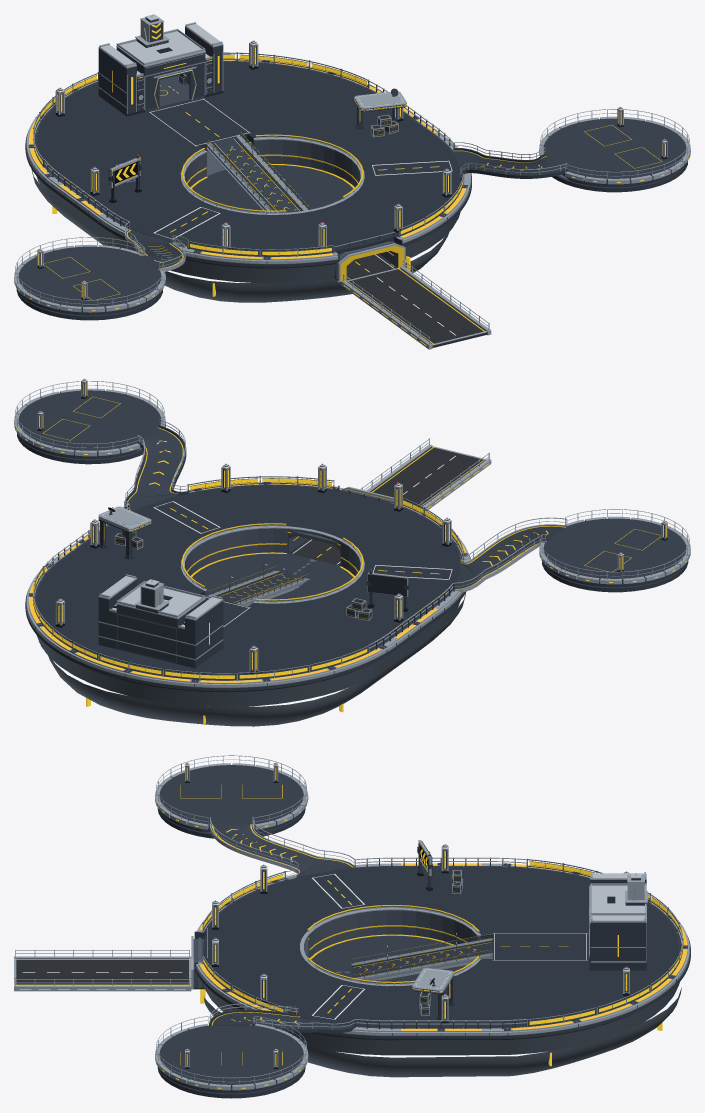
3 views of the same model, one above another, from view 1: azimuth 30°, elevation 25°; view 2: azimuth 150°, elevation 25°; view 3: azimuth 270°, elevation 25° (orthographic).
Visible parts, largest first — view 1: floating_base_deck, hq_building, floating_island_rock, trainingPlatform_2, trainingPlatform, basin, entranceBridge, rampBridge, bridge, dry_tunnel_module, bridge_2, commsCanopy (+6 smaller); view 2: floating_base_deck, floating_island_rock, basin, hq_building, trainingPlatform_2, trainingPlatform, entranceBridge, bridge, bridge_2, rampBridge, dry_tunnel_module, commsCanopy (+6 smaller); view 3: floating_base_deck, floating_island_rock, trainingPlatform, basin, trainingPlatform_2, entranceBridge, hq_building, rampBridge, bridge_2, bridge, commsCanopy, rockFoundation (+6 smaller).
Part boxes in pixels (x1,y1,x2,y2): floating_base_deck: [25, 58, 471, 267]; hq_building: [98, 14, 223, 116]; floating_island_rock: [31, 141, 460, 302]; trainingPlatform_2: [14, 237, 165, 315]; trainingPlatform: [539, 109, 690, 187]; basin: [180, 134, 364, 214]; entranceBridge: [341, 259, 491, 349]; rampBridge: [206, 132, 309, 212]; bridge: [453, 142, 567, 180]; dry_tunnel_module: [334, 241, 406, 282]; bridge_2: [125, 222, 188, 271]; commsCanopy: [354, 88, 406, 128]; floating_base_deck: [25, 482, 470, 691]; floating_island_rock: [36, 593, 465, 726]; basin: [180, 523, 364, 603]; hq_building: [98, 574, 223, 668]; trainingPlatform_2: [539, 509, 690, 587]; trainingPlatform: [14, 381, 165, 458]; entranceBridge: [360, 438, 491, 510]; bridge: [124, 419, 188, 510]; bridge_2: [454, 517, 567, 592]; rampBridge: [206, 564, 309, 606]; dry_tunnel_module: [288, 486, 393, 565]; commsCanopy: [98, 506, 151, 559]; floating_base_deck: [194, 863, 690, 1039]; floating_island_rock: [200, 982, 681, 1077]; trainingPlatform: [155, 1016, 308, 1093]; basin: [300, 905, 480, 986]; trainingPlatform_2: [155, 755, 308, 831]; entranceBridge: [14, 949, 191, 991]; hq_building: [589, 872, 647, 970]; rampBridge: [351, 933, 492, 980]; bridge_2: [209, 817, 355, 879]; bridge: [209, 1003, 355, 1033]; commsCanopy: [412, 968, 454, 1020]; rockFoundation: [157, 1067, 305, 1098].
Bounding box in the file's own units: 95.02 × 22.13 × 84.01.
Materials: 41 (41 with a texture image).
